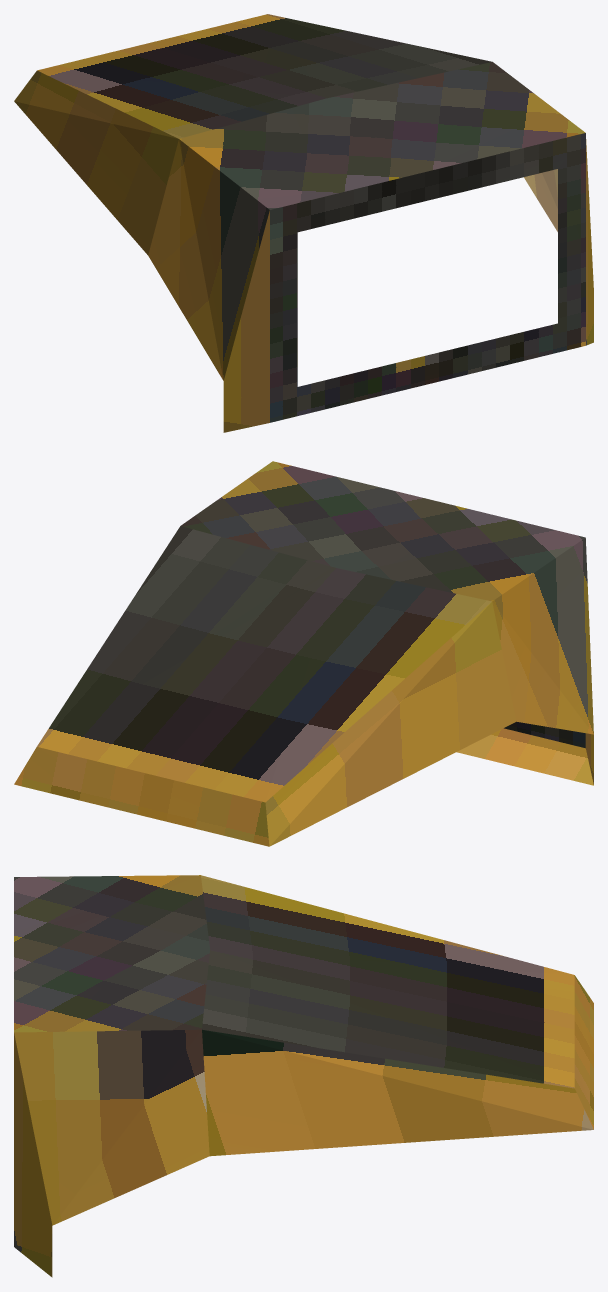
File: Glider_Headlights_v001.glb
3 renders of one model, top to bottom at view 1: azimuth 30°, elevation 25°; view 2: azimuth 150°, elevation 25°; view 3: azimuth 270°, elevation 25°, orthographic.
Parts seen in each view (by area): view 1: Glider_Headlight_Module; view 2: Glider_Headlight_Module; view 3: Glider_Headlight_Module.
Part boxes in pixels (box(x1,y1,x2,y2)): Glider_Headlight_Module: box(14, 14, 593, 432); Glider_Headlight_Module: box(14, 461, 593, 846); Glider_Headlight_Module: box(14, 875, 593, 1277).
Size of the model in its own units: 0.1174 by 0.0705 by 0.1579.
Materials: 2 (1 with a texture image).
